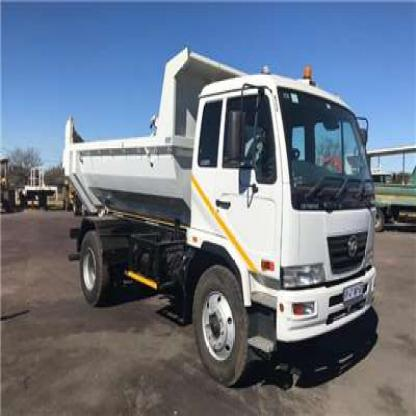dump_truck: (60, 45, 376, 382)
